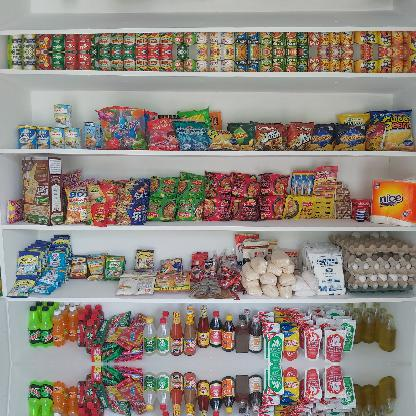Koko-Krunch: (19, 153, 65, 227)
